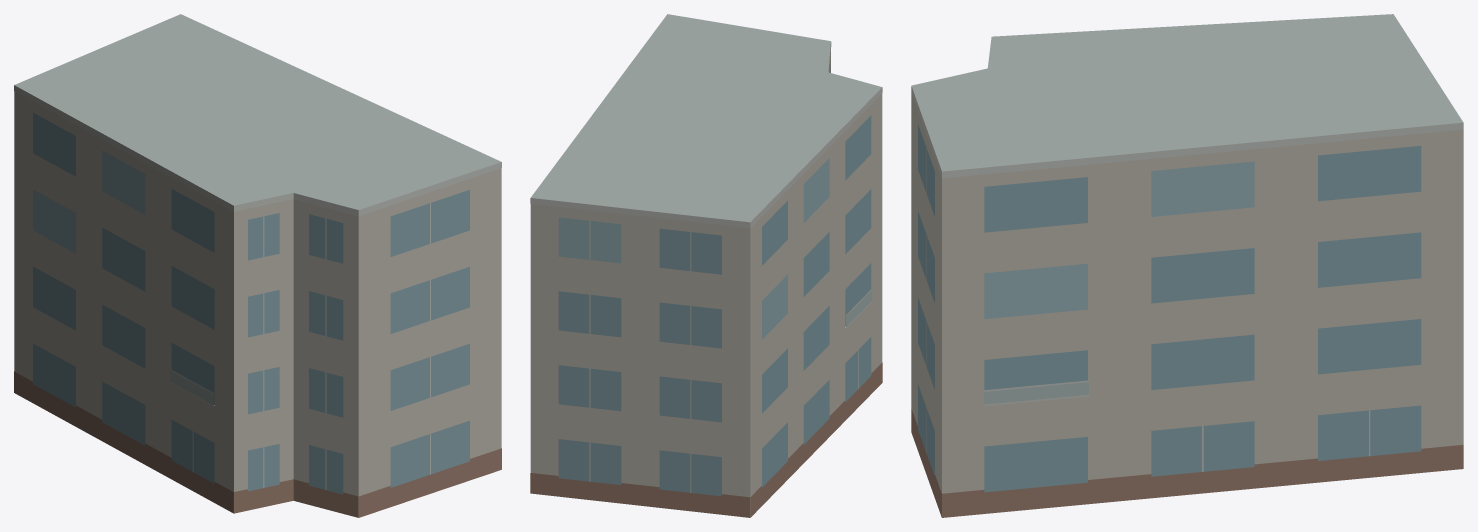
Rendered from residential-c9674074-3e2e-4d08-825b-f014caf6c4e8.glb.
3 views of the same model, side by side, from view 1: azimuth 30°, elevation 25°; view 2: azimuth 150°, elevation 25°; view 3: azimuth 270°, elevation 25° (orthographic). The views are drawn at different scales.
Parts seen in each view (by area): view 1: residential-c9674074-3e2e-4d08-825b-f014caf6c4e8.tmp; view 2: residential-c9674074-3e2e-4d08-825b-f014caf6c4e8.tmp; view 3: residential-c9674074-3e2e-4d08-825b-f014caf6c4e8.tmp.
Part boxes in pixels (x1,y1,x2,y2): residential-c9674074-3e2e-4d08-825b-f014caf6c4e8.tmp: (14,14,501,517); residential-c9674074-3e2e-4d08-825b-f014caf6c4e8.tmp: (530,14,882,517); residential-c9674074-3e2e-4d08-825b-f014caf6c4e8.tmp: (911,14,1463,517).
Size of the model in its own units: 11.92 by 12.2 by 17.64.
